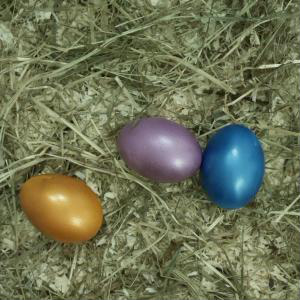egg: (20, 172, 104, 245), (202, 125, 264, 210), (118, 119, 202, 179)
